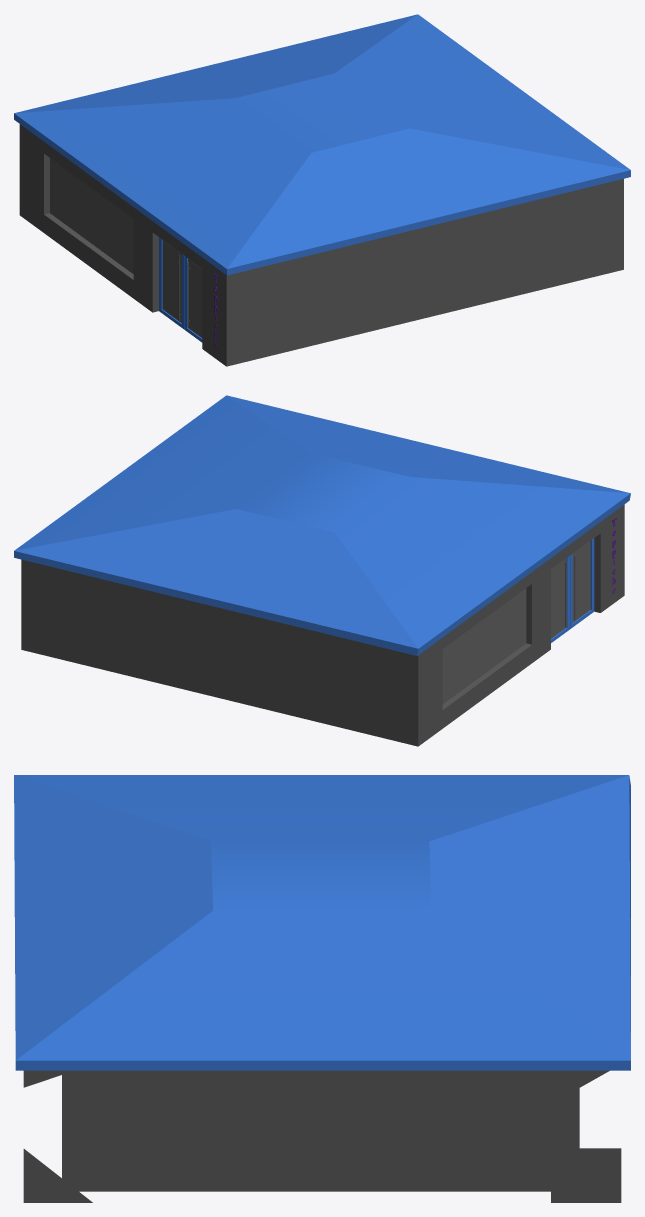
Rendered from teppichladen.dae.
The picture shows the model from 3 angles, top to bottom: view 1: azimuth 30°, elevation 25°; view 2: azimuth 150°, elevation 25°; view 3: azimuth 270°, elevation 25°; orthographic projection. The views are drawn at different scales.
Parts seen in each view (by area): view 1: roof, house, window2, pasted__doorInset, pasted__pasted__doorInset, pasted__door1; view 2: roof, house, window2, pasted__pasted__doorInset, pasted__doorInset, pasted__pasted__door1; view 3: roof, house.
Part boxes in pixels (left/top/right/bottom): roof: left=14, top=14, right=630, bottom=275; house: left=19, top=124, right=623, bottom=366; window2: left=50, top=158, right=133, bottom=273; pasted__doorInset: left=162, top=240, right=181, bottom=322; pasted__pasted__doorInset: left=188, top=259, right=202, bottom=337; pasted__door1: left=159, top=237, right=184, bottom=329; roof: left=14, top=395, right=630, bottom=655; house: left=21, top=504, right=624, bottom=746; window2: left=442, top=588, right=526, bottom=703; pasted__pasted__doorInset: left=572, top=541, right=590, bottom=622; pasted__doorInset: left=551, top=559, right=566, bottom=638; pasted__pasted__door1: left=570, top=538, right=594, bottom=628; roof: left=14, top=775, right=630, bottom=1070; house: left=23, top=1070, right=621, bottom=1202.
Bounding box in the file's own units: 1283 × 393 × 1173.
